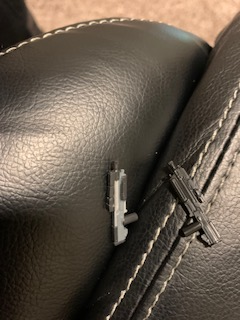rifle: (164, 159, 222, 252), (103, 159, 141, 247)
